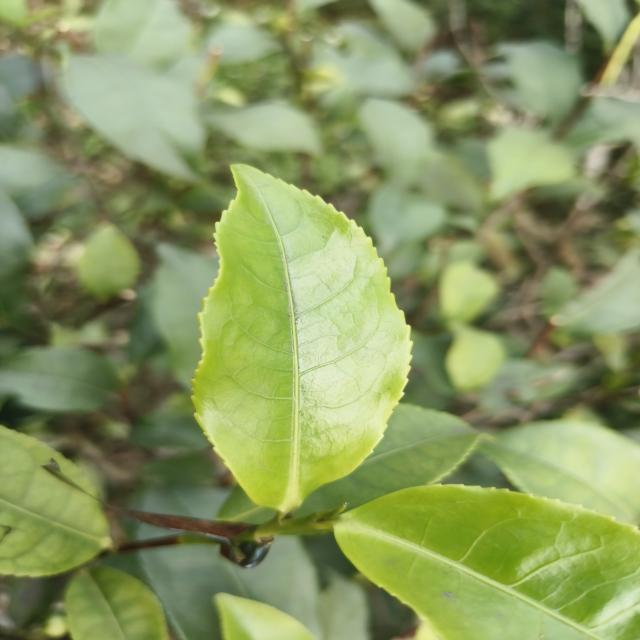Leaf: (193, 165, 411, 513), (334, 484, 640, 640), (298, 403, 480, 515), (138, 538, 320, 640), (62, 55, 204, 180), (0, 426, 111, 577), (481, 419, 640, 524), (151, 243, 218, 390), (65, 566, 169, 640), (0, 347, 118, 411), (553, 249, 640, 334), (358, 98, 434, 186), (93, 0, 191, 68), (499, 42, 582, 121), (487, 128, 575, 200), (206, 103, 321, 155), (368, 186, 445, 252), (214, 593, 316, 640), (77, 225, 140, 300), (445, 324, 505, 390), (440, 262, 498, 323), (139, 487, 226, 517), (217, 485, 271, 523)
